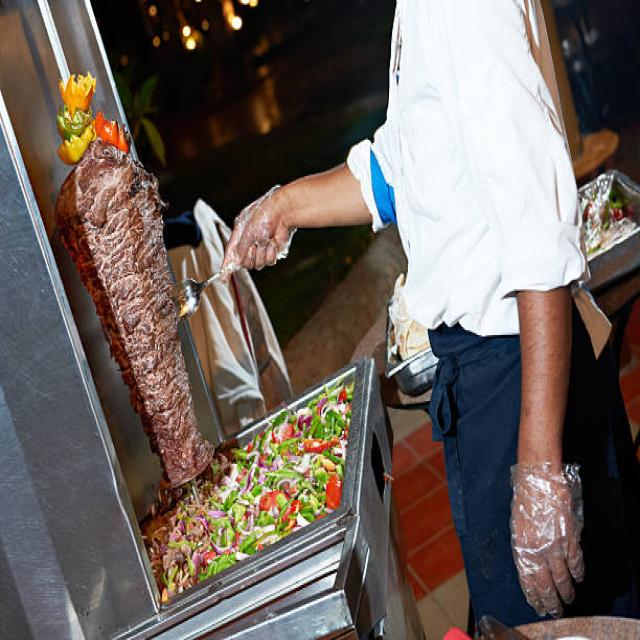Emperan: (37, 56, 461, 640)
